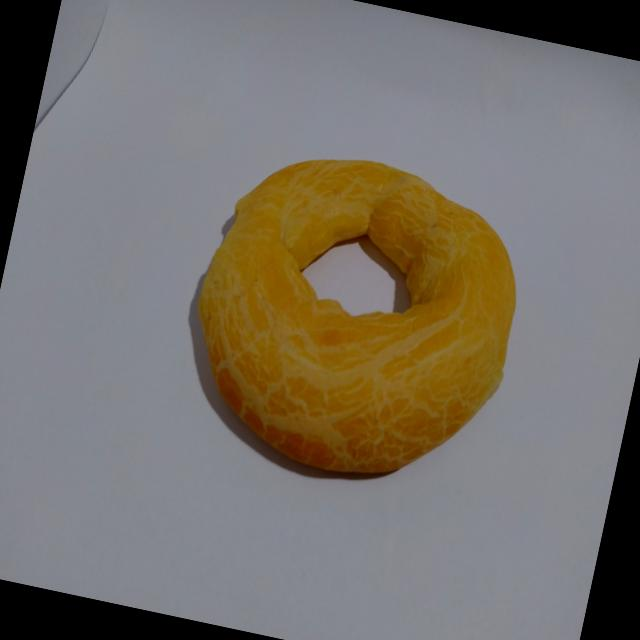Chipa: (155, 117, 548, 523)
